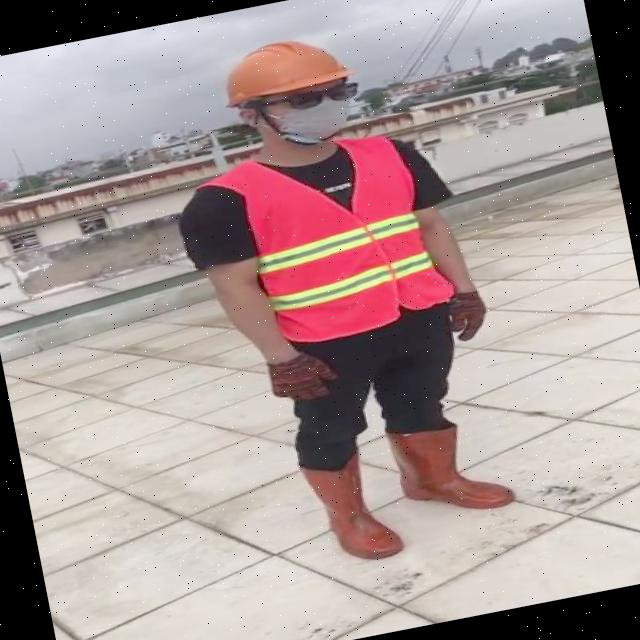boots: (386, 412, 520, 526), (300, 452, 407, 570)
